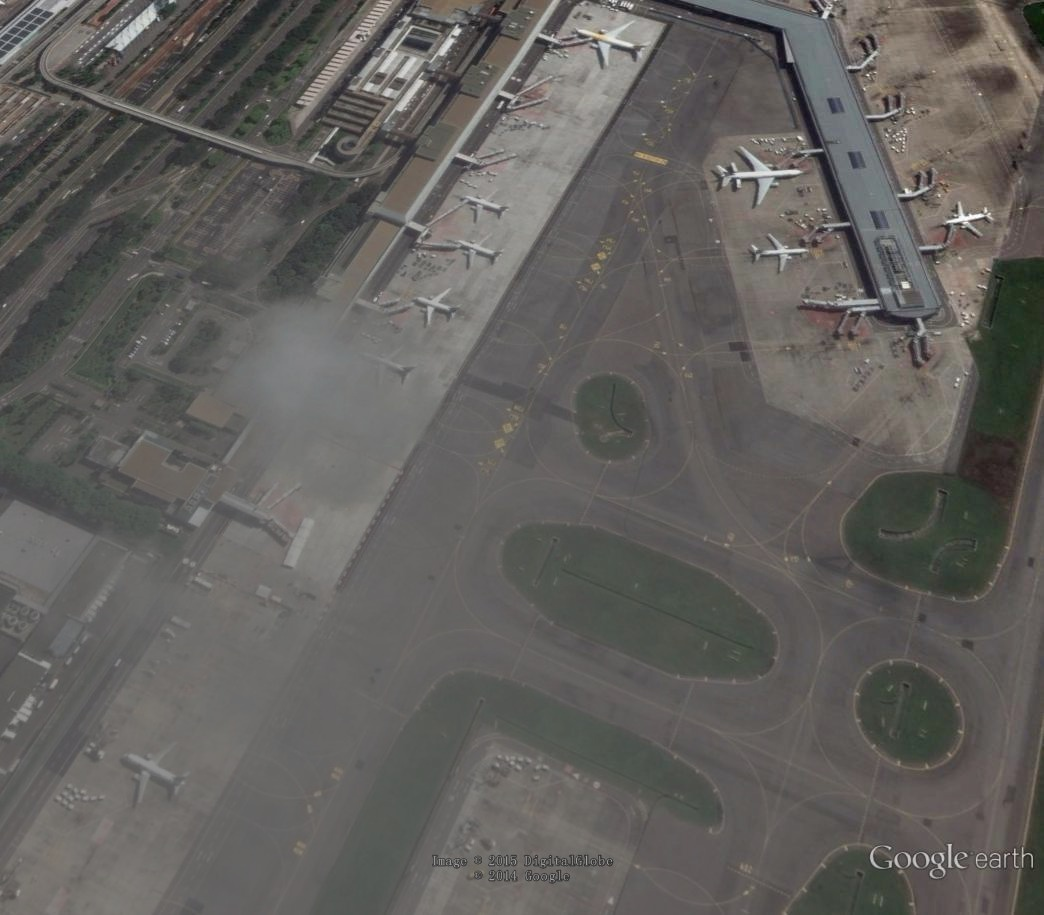aircraft: (710, 144, 809, 211), (116, 740, 196, 810), (572, 17, 654, 69), (361, 343, 423, 394), (747, 230, 814, 276), (939, 200, 998, 239), (411, 287, 466, 328), (452, 232, 508, 272), (461, 190, 514, 227)
